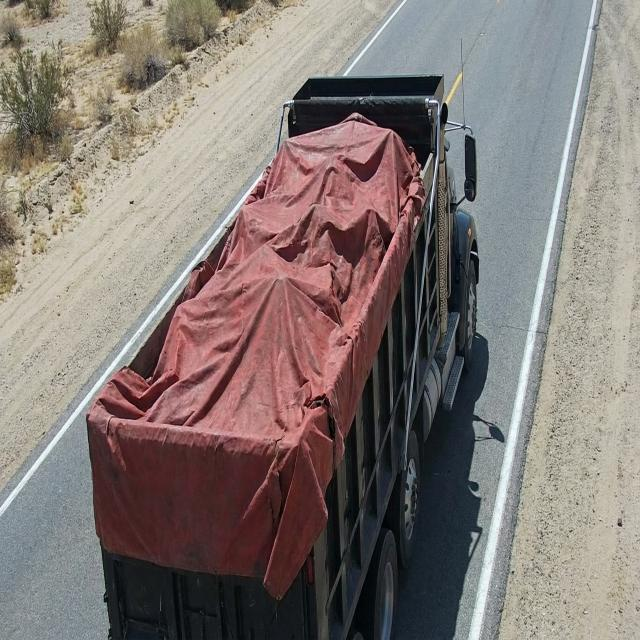trailer: (88, 76, 436, 466)
truck: (81, 76, 474, 640)
